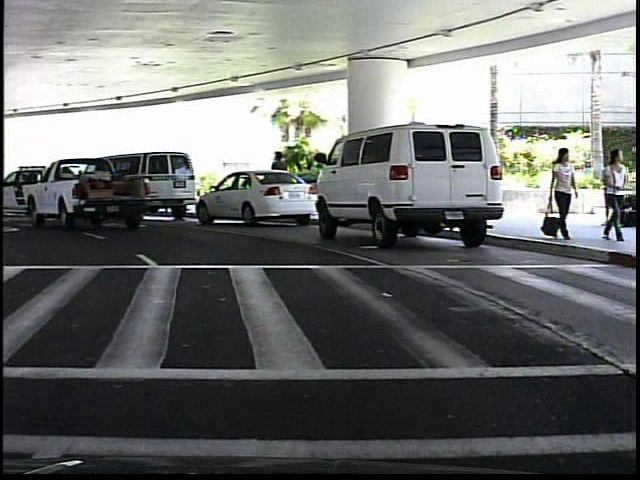person: (545, 144, 576, 241), (601, 145, 627, 243), (269, 148, 296, 213), (601, 155, 623, 231)
